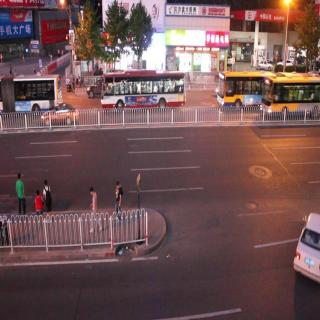BigCar: (101, 68, 186, 111), (260, 69, 320, 116), (0, 76, 62, 110), (218, 67, 261, 111)
Car: (292, 208, 320, 282), (41, 104, 80, 127)
